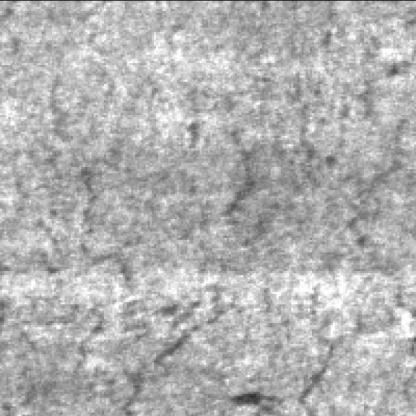crazing: (48, 83, 250, 364), (293, 25, 412, 414)
